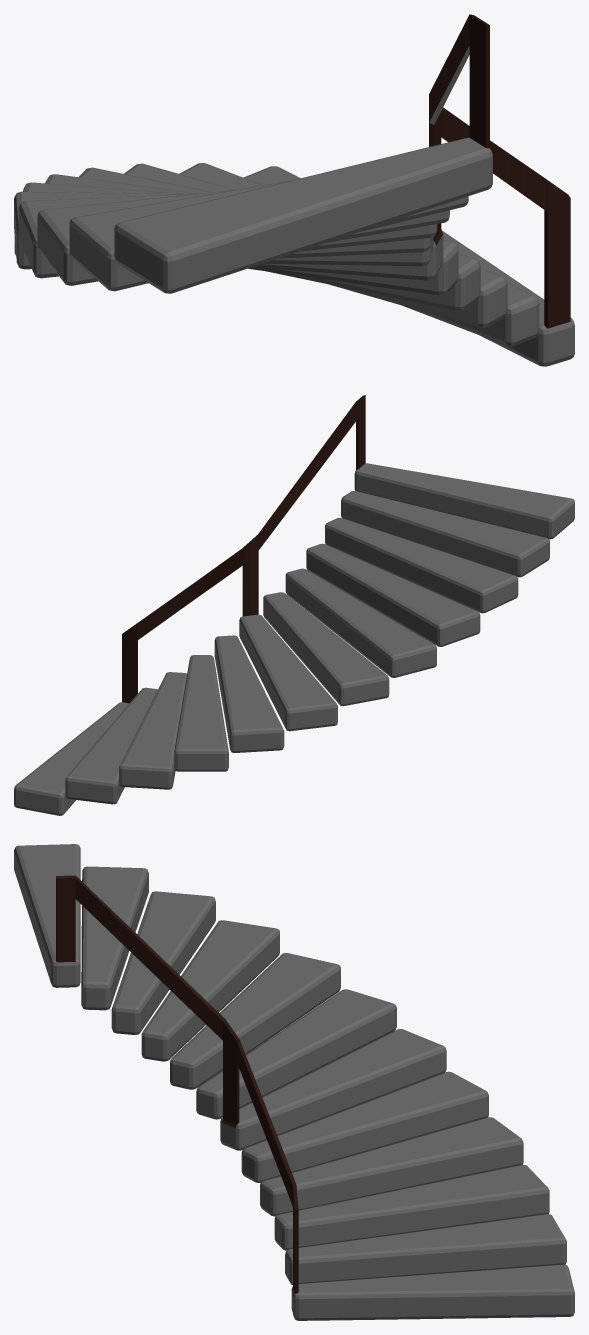
The model's file is broken_FlaskSquare.fbx_floor3.fbx_Stairs.fbx.
3 views of the same model, one above another, from view 1: azimuth 30°, elevation 25°; view 2: azimuth 150°, elevation 25°; view 3: azimuth 270°, elevation 25° (orthographic). The views are drawn at different scales.
Visible parts, largest first — view 1: Circle; view 2: Circle; view 3: Circle.
Part boxes in pixels (x1,y1,x2,y2): Circle: [14, 14, 574, 366]; Circle: [14, 395, 574, 815]; Circle: [14, 844, 574, 1320].
Size of the model in its own units: 262 by 212 by 301.
